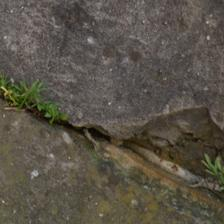Crack: (18, 61, 94, 162), (70, 74, 140, 170)
